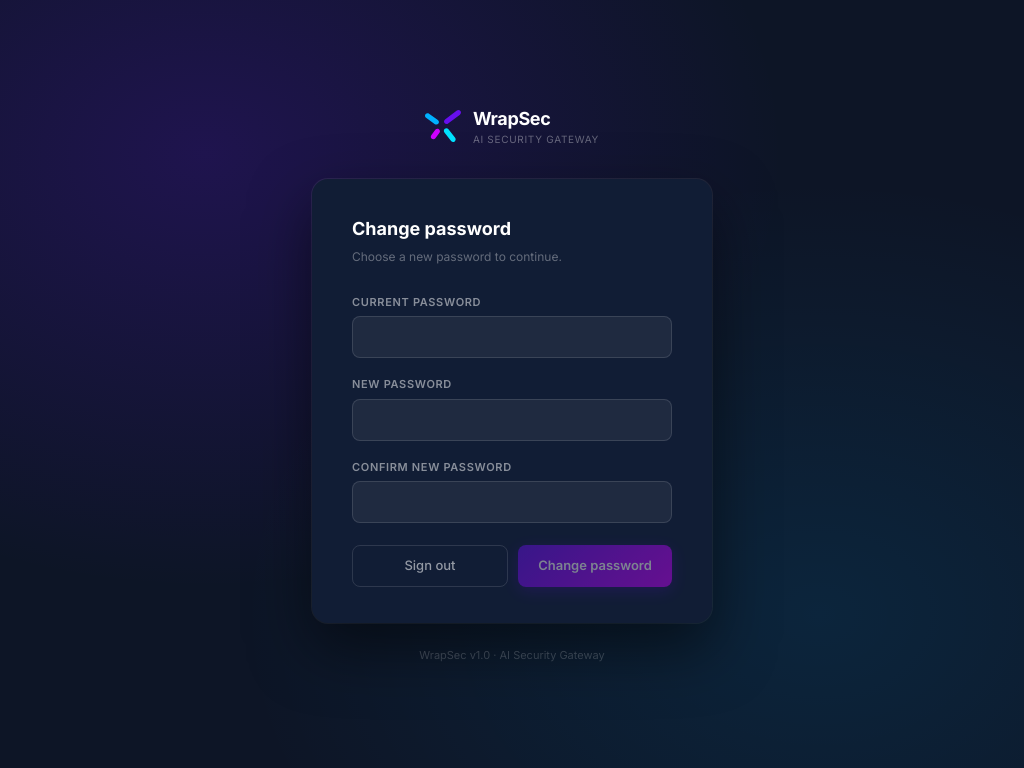
Scenario: ChangePasswordPage submit › maps INVALID_PASSWORD to the incorrect-current message and does not log out
The width and height of the screenshot is (1024, 768).
Type "wrongcurrent1A" into the password field below "Current password" at (512, 337), box [352,316,672,358]
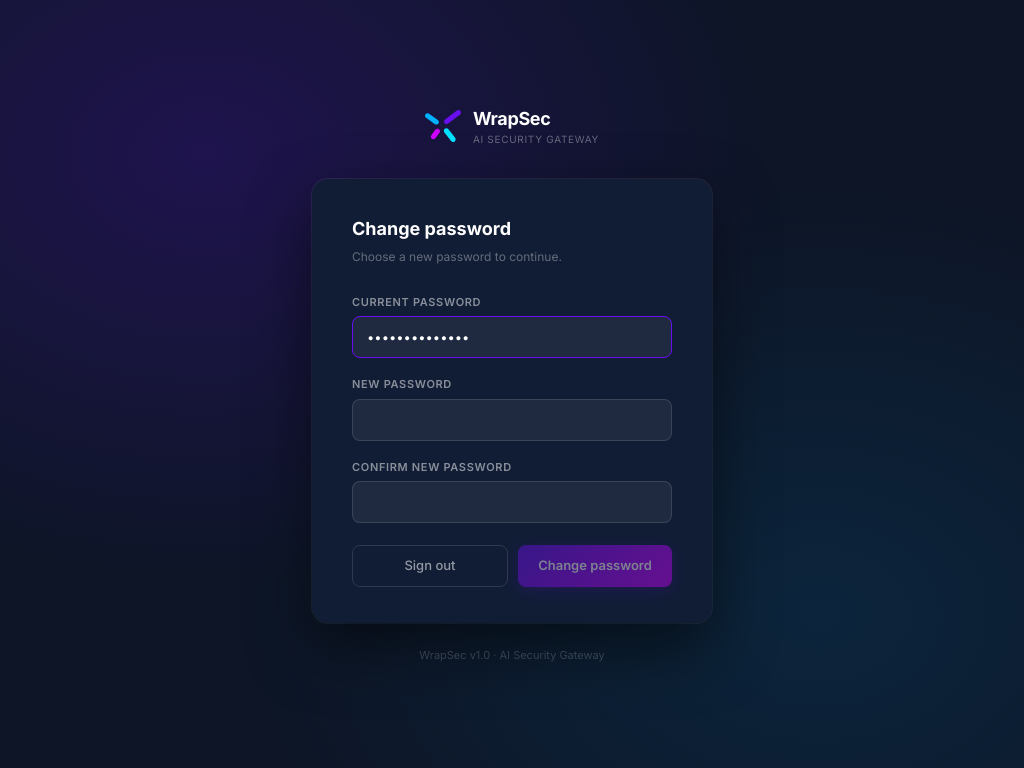
Type "StrongPass1" into the 2nd password field at (512, 420), box [352,398,672,440]
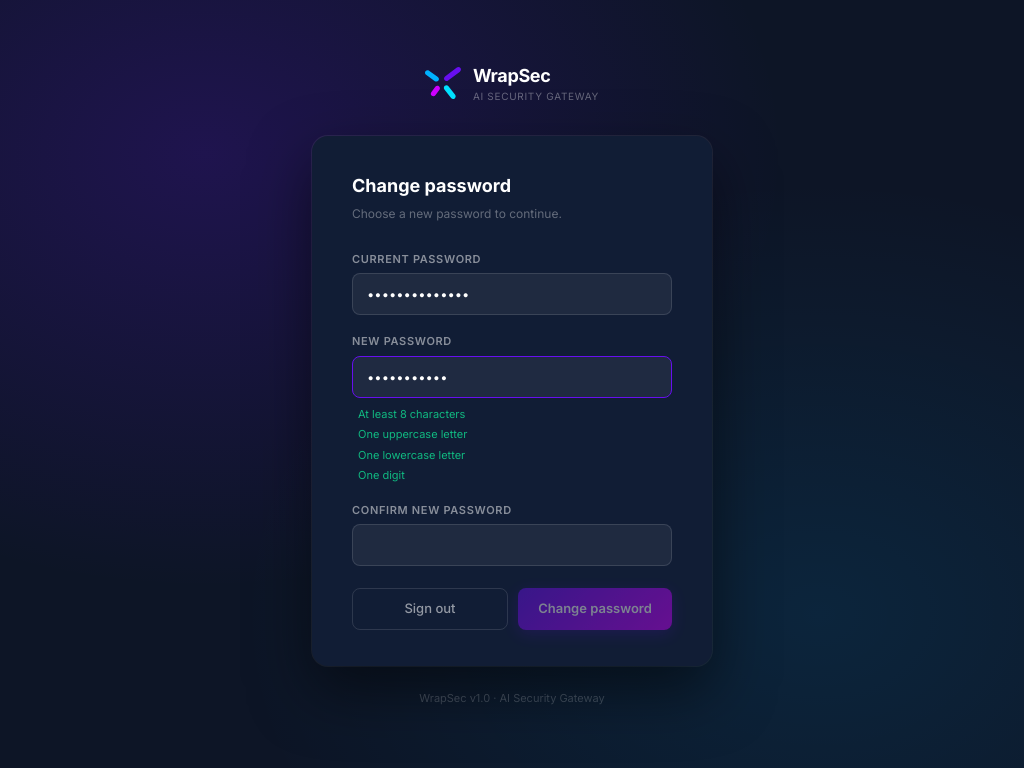
Type "StrongPass1" into the password field below "Confirm new password" at (512, 545), box [352,524,672,566]
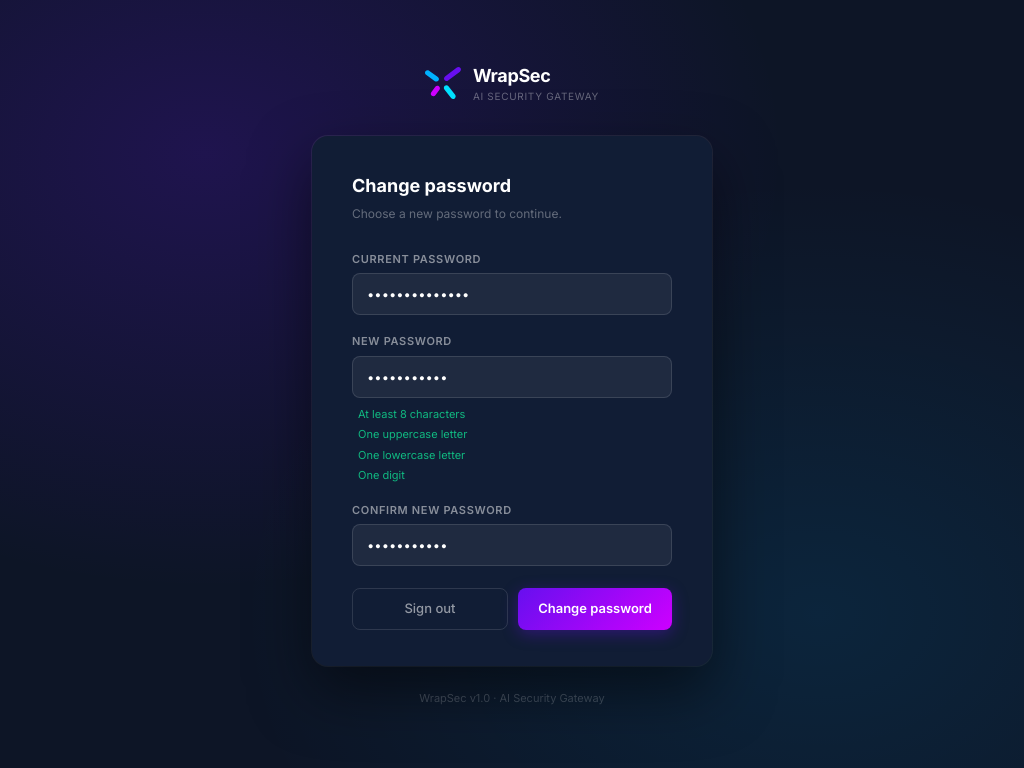
Click the button "Change password" at (595, 609), box [518,588,672,630]
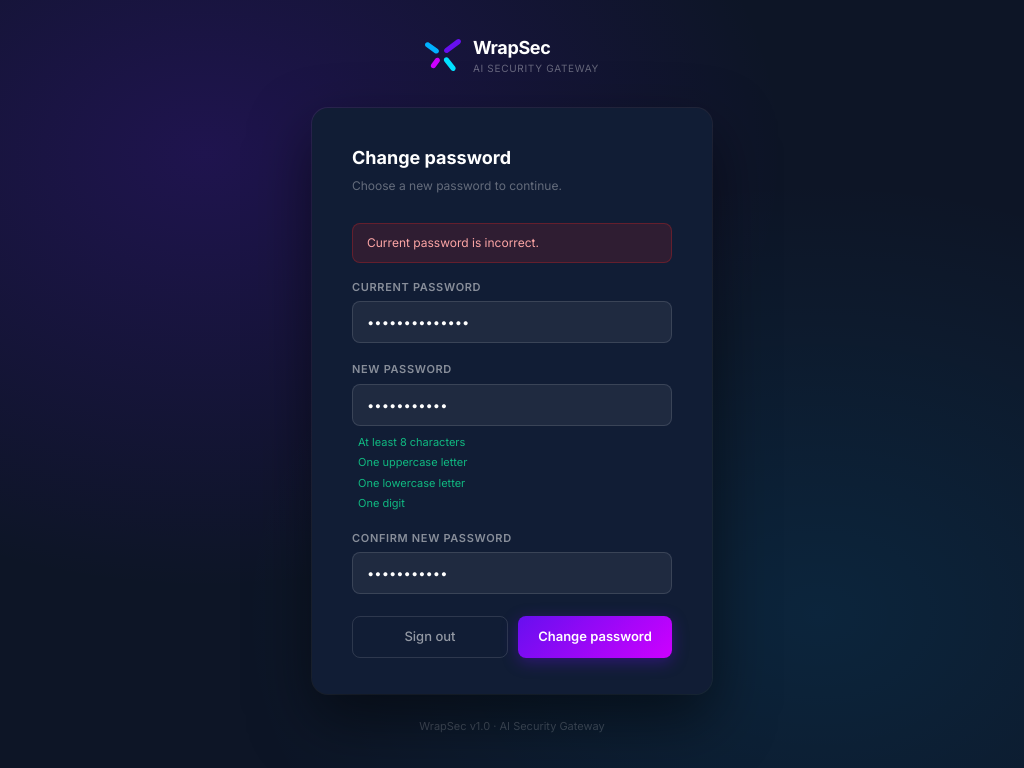
Now the text "Current password is incorrect." is shown, box [352,222,672,262]
